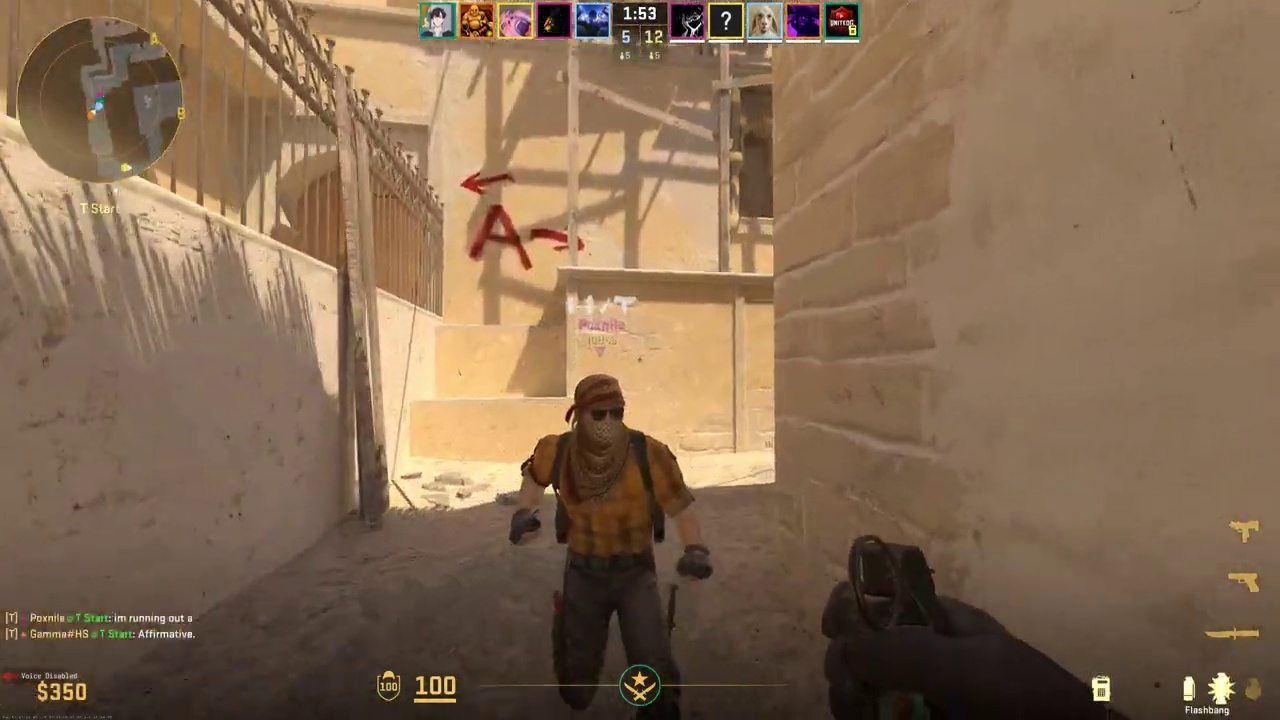Terrorist: (534, 376, 684, 713)
